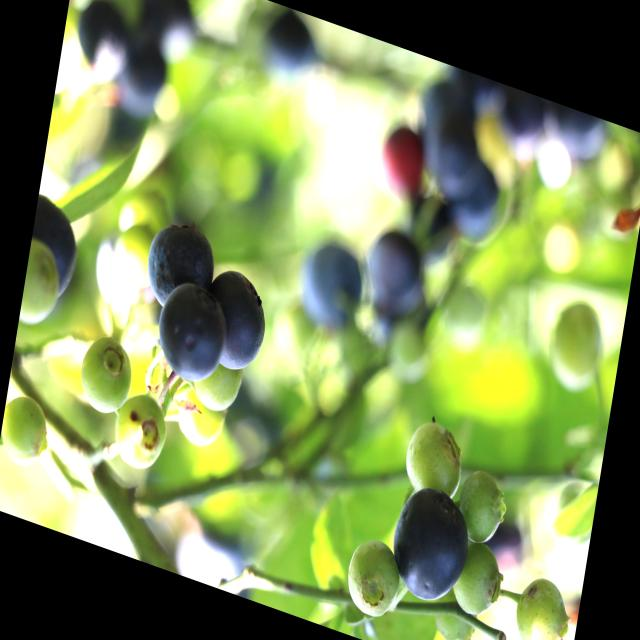blueberry: (382, 473, 476, 617), (198, 258, 276, 382), (152, 275, 232, 393), (139, 213, 218, 320), (296, 234, 367, 344), (24, 194, 86, 304), (364, 226, 426, 308), (266, 7, 322, 84)
blueberry-unripe: (108, 382, 176, 482), (399, 414, 466, 511), (73, 326, 139, 422), (339, 533, 403, 625), (19, 234, 68, 334), (452, 543, 508, 630), (188, 349, 250, 426), (454, 465, 507, 551), (510, 571, 574, 640), (0, 387, 53, 469), (172, 385, 229, 455)
